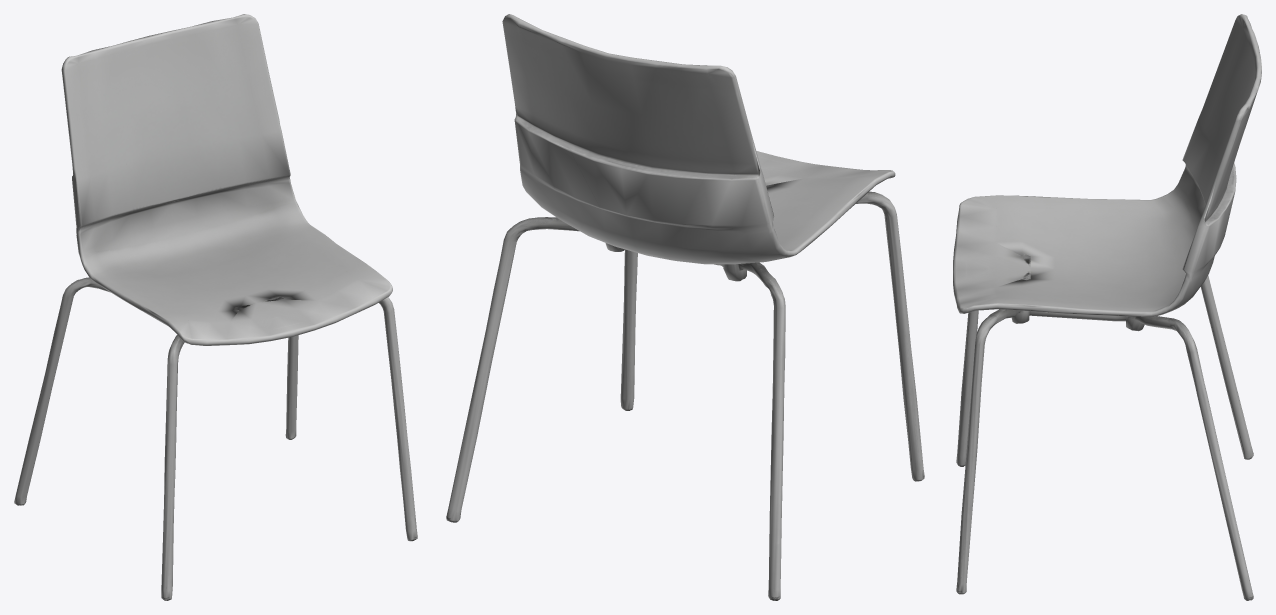
The model's file is Chair_Trumanchair_Sh_0320031539_texture.glb.
3 views of the same model, side by side, from view 1: azimuth 30°, elevation 25°; view 2: azimuth 150°, elevation 25°; view 3: azimuth 270°, elevation 25° (orthographic). The views are drawn at different scales.
Parts seen in each view (by area): view 1: Mesh_0.003; view 2: Mesh_0.003; view 3: Mesh_0.003.
Boxes of the visible parts, left/top/right/bottom form: Mesh_0.003: left=14, top=14, right=417, bottom=600; Mesh_0.003: left=446, top=14, right=924, bottom=600; Mesh_0.003: left=953, top=14, right=1261, bottom=600.
Bounding box in the file's own units: 0.614 × 0.9144 × 0.5464.
Materials: 1 (1 with a texture image).
